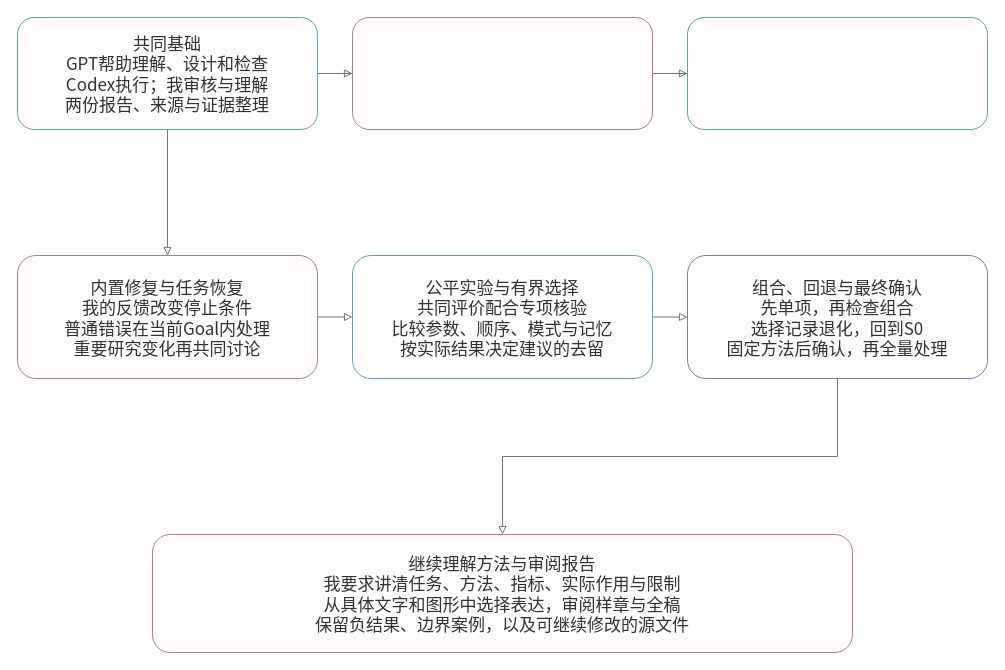
Some shapes in this 1005 by 670 pixel diagram are drawn without their labels. Here are the shapes that lost their labels. From the top down, the centre of each, then its label:
At point 502,73: "重新明确实验任务 Multi-Agent参与真实处理 从轨迹问题反推研究 筛选少量可检验的候选".
At point 837,73: "建立可信执行基础 定位核验错配与候选自证 通过正反例检查修复 七条试运行记录可复算".
